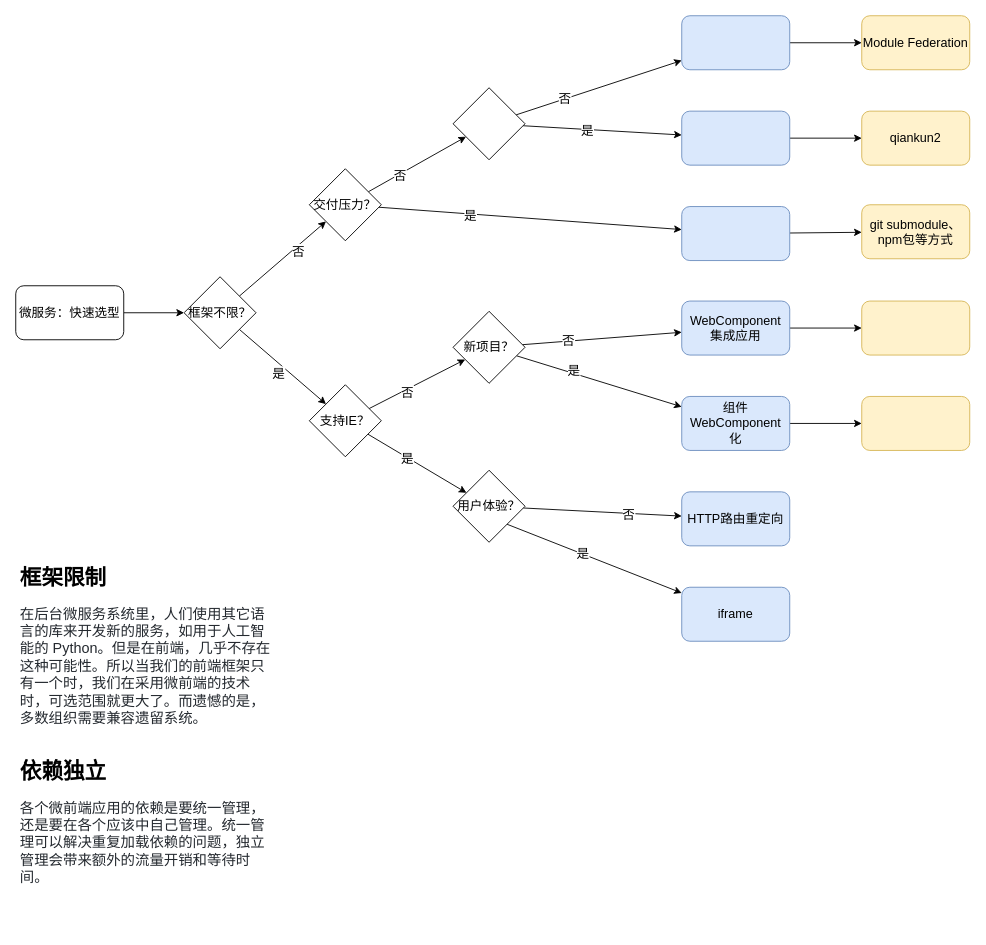
The diagram is 986 pixels wide and 945 high, and some of its shapes have lost their labels. The shapes that lost their labels are listed below. From the top down, each one's box as (x1, y1, x2, y2) in pixels, then its label:
(681, 15, 790, 70): 基于构建系统的微件化
(452, 87, 525, 160): 依赖独立？
(681, 110, 790, 165): 应用微服务化
(681, 206, 790, 261): 基于软件工程的微应用化
(861, 300, 970, 355): micro-app
(861, 396, 970, 450): WebComponent
